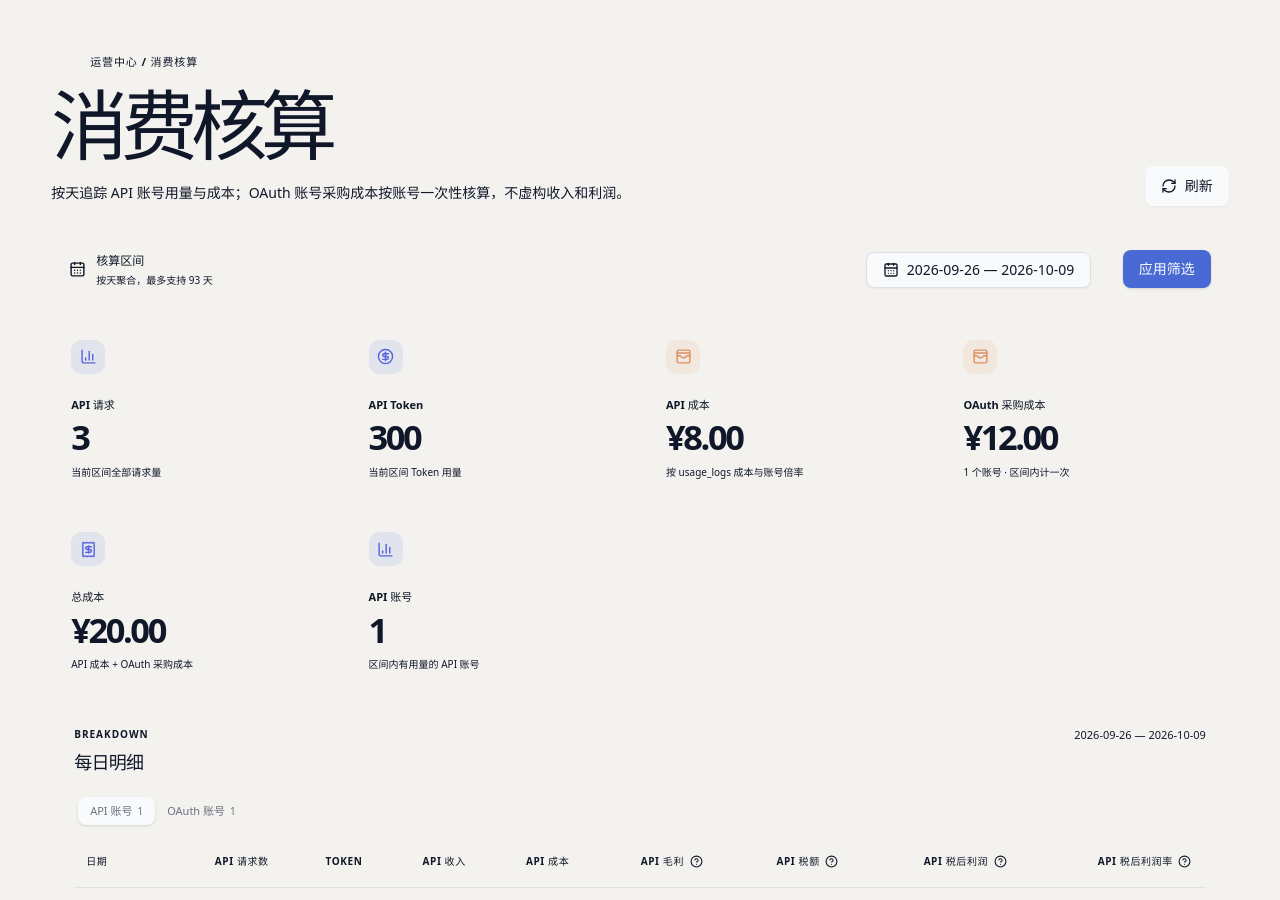
Scenario: 消费核算 › 按 tab 切换 API 和 OAuth 每日明细
Check: the column heading "API 收入" is shown, box [374,848,478,888]
What coordinates should you click on to do the following:
click the tab "OAuth 账号 1"
I would click on:
 (202, 812)
Its box is [155,798,248,826].
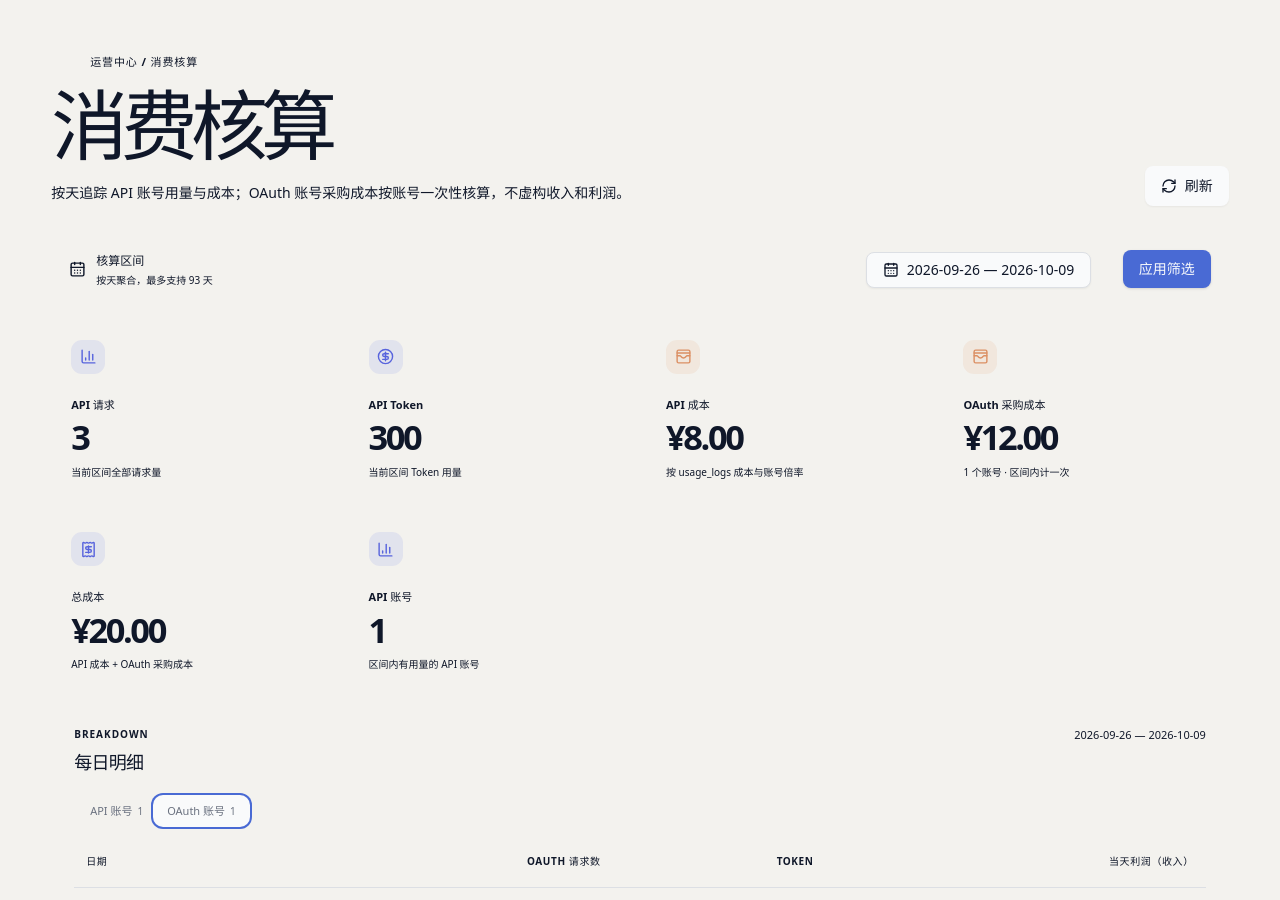
Check: the column heading "当天利润（收入）" is shown, box [826,848,1206,888]
